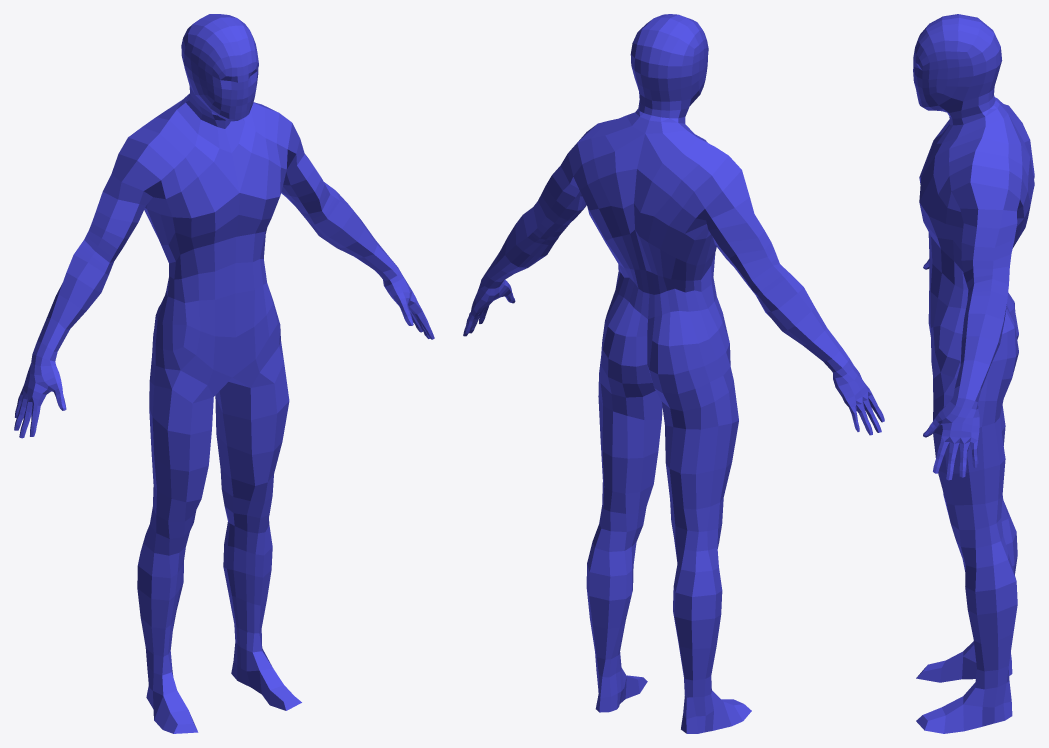
Rendered from Player_model.fbx.
The picture shows the model from 3 angles, left to right: view 1: azimuth 30°, elevation 25°; view 2: azimuth 150°, elevation 25°; view 3: azimuth 270°, elevation 25°; orthographic projection.
Visible parts, largest first — view 1: polySurface29; view 2: polySurface29; view 3: polySurface29.
Part boxes in pixels (x1=…): polySurface29: x1=14, y1=14, x2=434, y2=733; polySurface29: x1=463, y1=14, x2=884, y2=733; polySurface29: x1=913, y1=14, x2=1034, y2=733.
Size of the model in its own units: 14.09 by 22.57 by 3.64.
